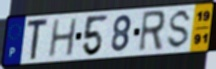5: (80, 14, 110, 57)
8: (110, 13, 133, 54)
H: (47, 17, 79, 59)
R: (137, 9, 167, 55)
S: (165, 8, 194, 51)
T: (25, 17, 50, 62)
